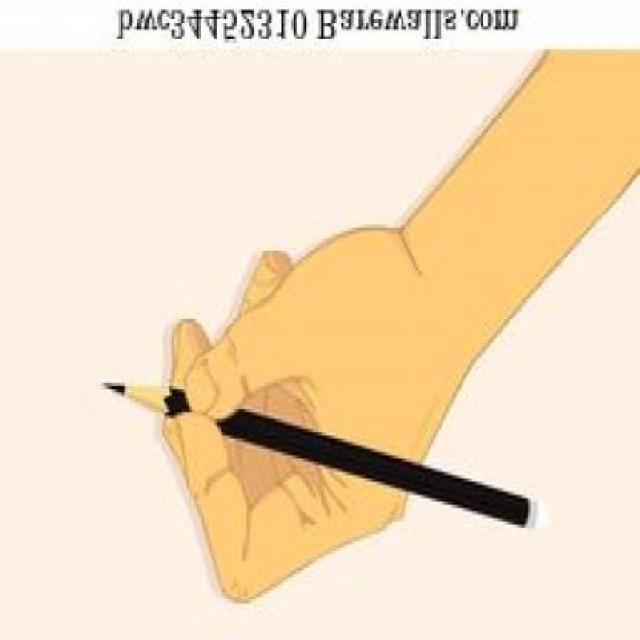pencil: (95, 361, 179, 427)
